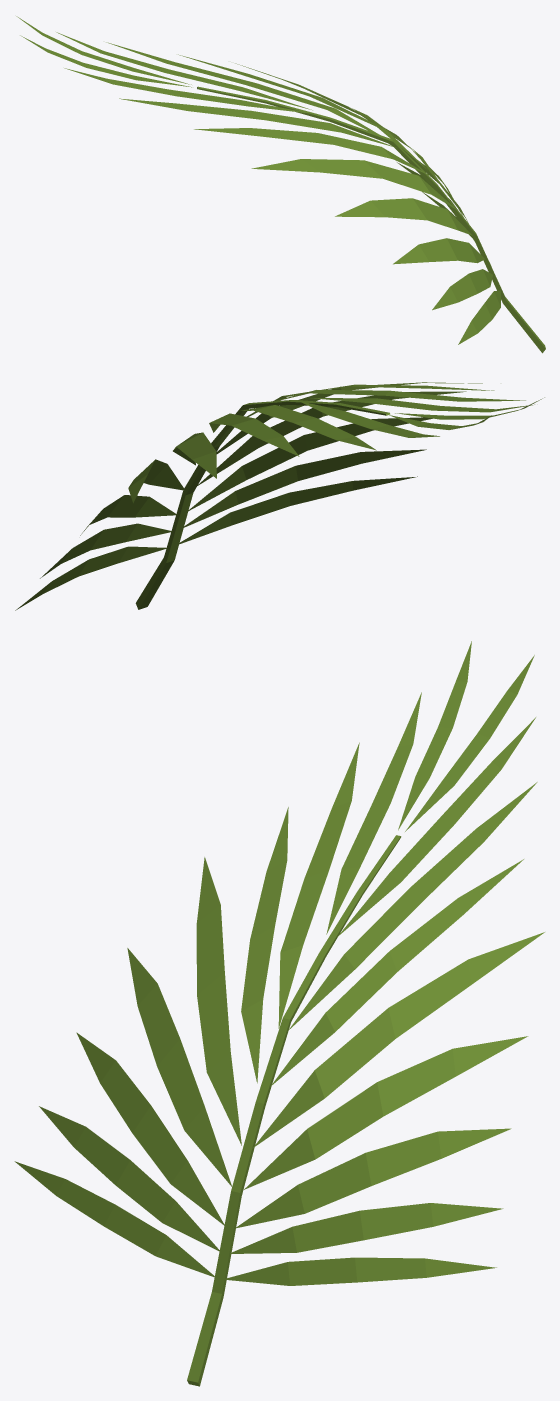
File: plant.fbx
3 renders of one model, top to bottom at view 1: azimuth 30°, elevation 25°; view 2: azimuth 150°, elevation 25°; view 3: azimuth 270°, elevation 25°, orthographic. The views are drawn at different scales.
Visible parts, largest first — view 1: Plane.038, Plane.008; view 2: Plane.038, Plane.008; view 3: Plane.038, Plane.008.
Part boxes in pixels (bbox=[...]): Plane.038: bbox=[18, 17, 545, 353]; Plane.008: bbox=[24, 21, 500, 344]; Plane.038: bbox=[15, 382, 544, 610]; Plane.008: bbox=[24, 382, 530, 603]; Plane.038: bbox=[14, 641, 544, 1386]; Plane.008: bbox=[21, 647, 538, 1285].
Size of the model in its own units: 1.05 by 0.8136 by 0.8398.
